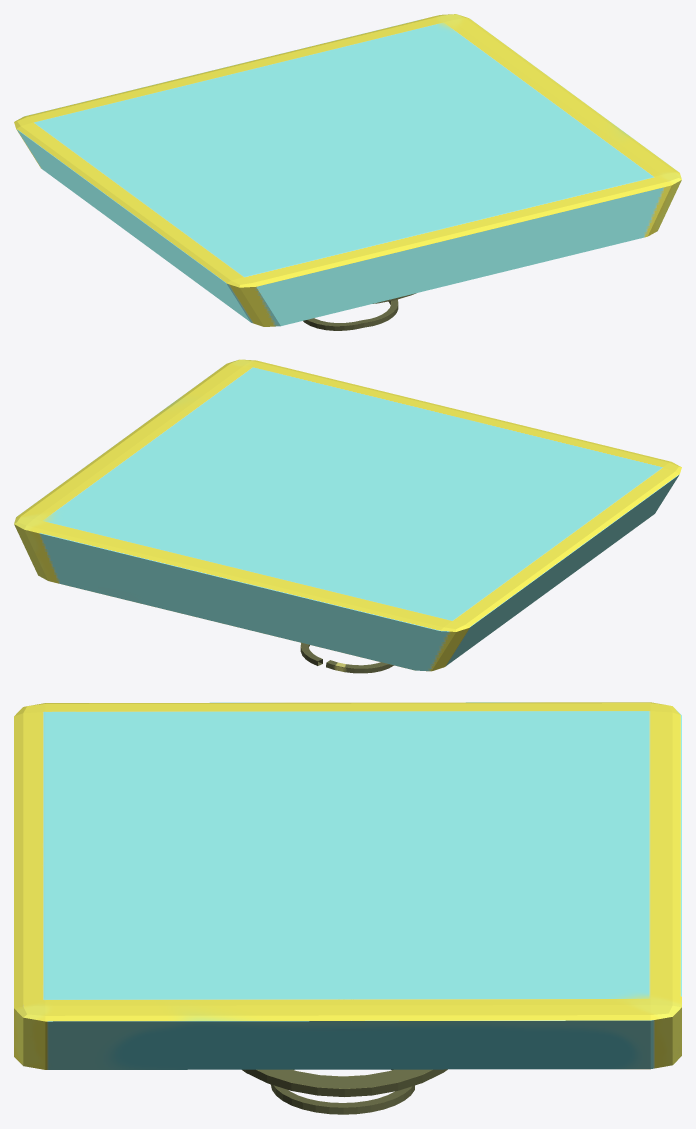
File: Textured_BrokenPlatform.fbx
The picture shows the model from 3 angles, top to bottom: view 1: azimuth 30°, elevation 25°; view 2: azimuth 150°, elevation 25°; view 3: azimuth 270°, elevation 25°; orthographic projection. The views are drawn at different scales.
Parts seen in each view (by area): view 1: Broken Platform, ring3broken; view 2: Broken Platform, ring3broken; view 3: Broken Platform, ring2broken, ring3broken.
Boxes of the visible parts, x1,y1,x2,y2 form: Broken Platform: (14,14,681,326); ring3broken: (303,299,398,330); Broken Platform: (14,359,681,671); ring3broken: (300,643,393,673); Broken Platform: (14,702,681,1069); ring2broken: (242,1069,447,1096); ring3broken: (270,1069,414,1114).
Bounding box in the file's own units: 226 × 77.14 × 200.
5 materials, 5 textured.
